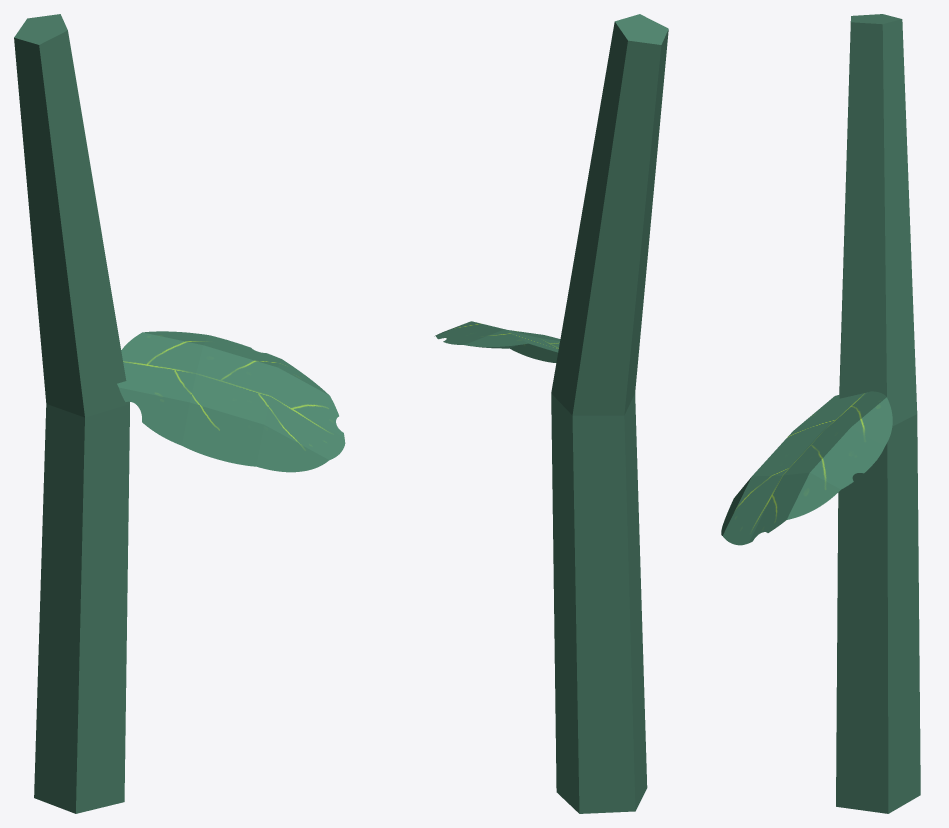
The model's file is soy_cut.fbx.
3 renders of one model, left to right at view 1: azimuth 30°, elevation 25°; view 2: azimuth 150°, elevation 25°; view 3: azimuth 270°, elevation 25°, orthographic. The views are drawn at different scales.
Visible parts, largest first — view 1: Cylinder.015; view 2: Cylinder.015; view 3: Cylinder.015.
Boxes of the visible parts, bbox=[...] form: Cylinder.015: bbox=[14, 14, 345, 813]; Cylinder.015: bbox=[434, 14, 668, 813]; Cylinder.015: bbox=[721, 14, 920, 813].
Bounding box in the file's own units: 52.6 × 127 × 35.81.
